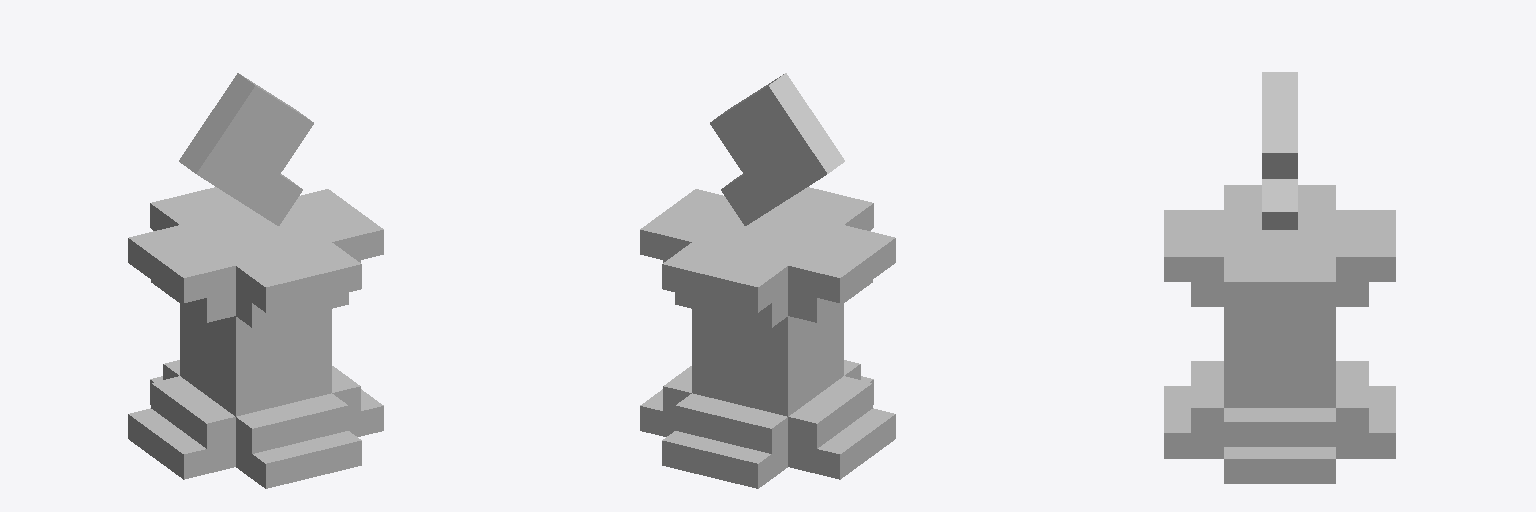
Rendered from naturespawn.obj.
3 renders of one model, left to right at view 1: azimuth 30°, elevation 25°; view 2: azimuth 150°, elevation 25°; view 3: azimuth 270°, elevation 25°, orthographic.
Visible parts, largest first — view 1: base; view 2: base; view 3: base.
Part boxes in pixels (bbox=[...]): base: bbox=[128, 73, 383, 488]; base: bbox=[640, 73, 895, 488]; base: bbox=[1164, 72, 1395, 483].
Bounding box in the file's own units: 1.01 × 1.72 × 1.01.